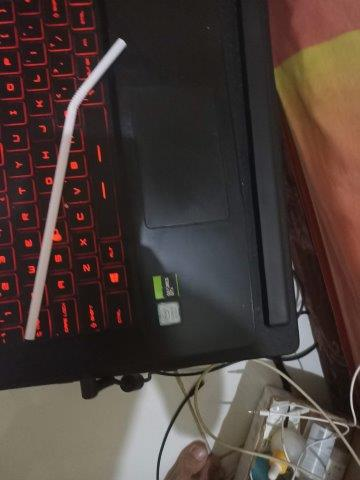sedotan: (25, 38, 126, 338)
